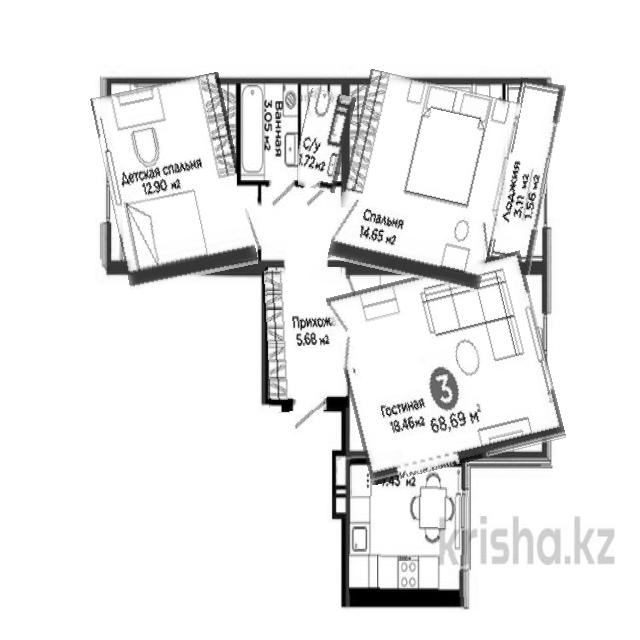balcony: (494, 79, 558, 274)
bathroom: (237, 84, 298, 190), (295, 90, 351, 192)
hallway: (264, 268, 348, 412)
kitchen: (349, 454, 469, 596)
living_room: (336, 260, 556, 474), (337, 77, 512, 285), (100, 78, 249, 284)
